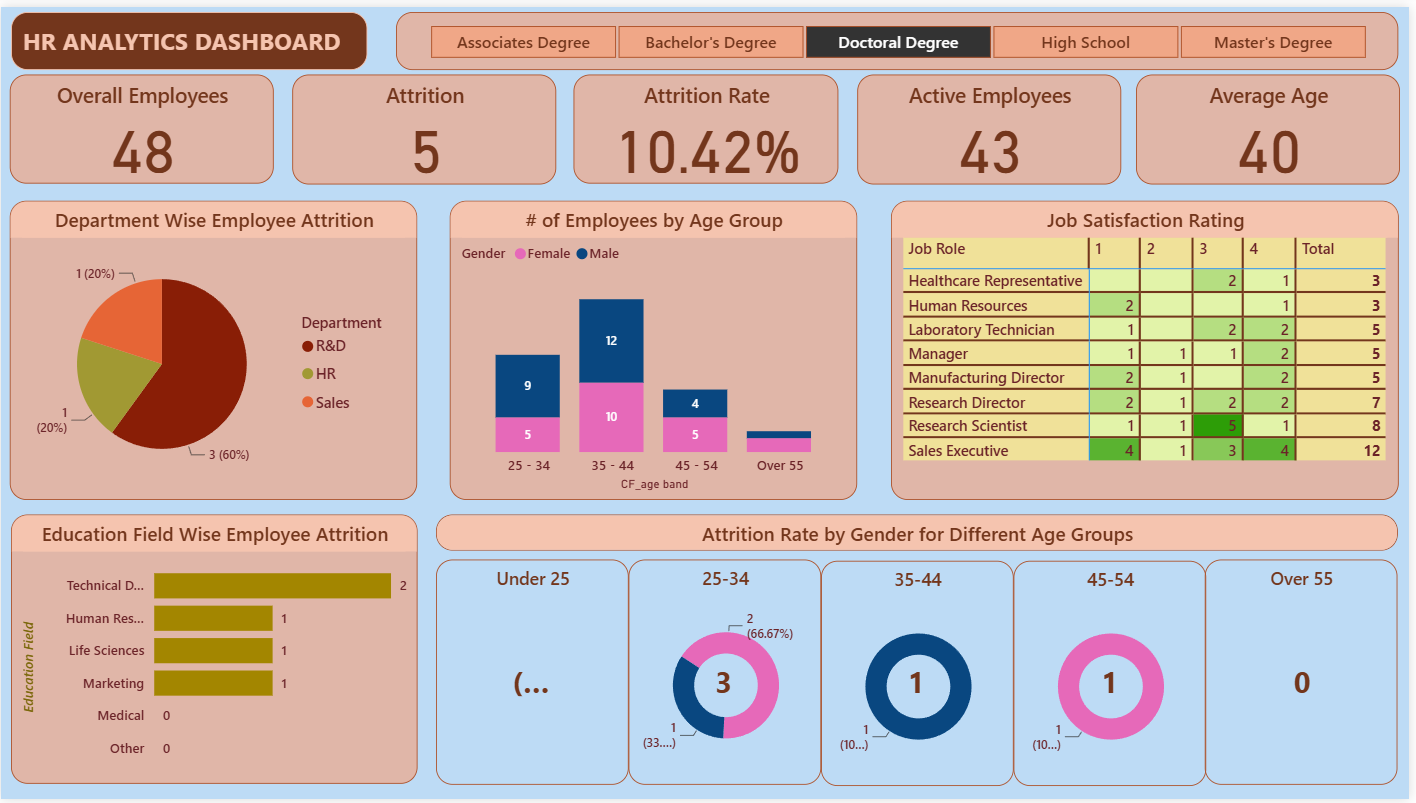

What the dashboard file says about the page in this screenshot:
{"tool":"powerbi","page":{"name":"HR Analytics Dashboard","canvas":[1280,720],"ordinal":0},"visuals":[{"type":"card","title":"Overall Employees","fields":{"Values":["Sum(HR data.Employee Count)"]},"box":[8.3,61.5,239.9,99.1],"z":0},{"type":"card","title":"Attrition ","fields":{"Values":["Sum(HR data.Attrition Count)"]},"box":[264.9,61.5,239.9,100.1],"z":1000},{"type":"card","title":"Attrition Rate","fields":{"Values":["HR data.Attrition Rate"]},"box":[520.4,61.5,240.9,99.1],"z":2000},{"type":"card","title":"Active Employees","fields":{"Values":["HR data.Active employees"]},"box":[778,61.5,239.9,100.1],"z":3000},{"type":"card","title":"Average Age","fields":{"Values":["Avg(HR data.Age)"]},"box":[1031.4,61.5,239.9,100.1],"z":4000},{"type":"pieChart","title":"Department Wise Employee Attrition","fields":{"Category":["HR data.Department"],"Y":["Sum(HR data.Attrition Count)"]},"box":[8.4,175.8,370.2,272.1],"z":5000},{"type":"columnChart","title":"# of Employees by Age Group","fields":{"Category":["HR data.CF_age band"],"Y":["Sum(HR data.Employee Count)"],"Series":["HR data.Gender"]},"box":[407.6,175.8,370.2,272.1],"z":6000},{"type":"pivotTable","title":"Job Satisfaction Rating","fields":{"Rows":["HR data.Job Role"],"Columns":["HR data.Job Satisfaction"],"Values":["Sum(HR data.Employee Count)"]},"box":[809.6,175.8,461.8,272.1],"z":7000},{"type":"barChart","title":"Education Field Wise Employee Attrition","fields":{"Category":["HR data.Education Field"],"Y":["Sum(HR data.Attrition Count)"]},"box":[9.3,461.8,369.3,244.9],"z":8000},{"type":"donutChart","title":"Under 25","fields":{"Category":["HR data.Gender"],"Y":["Sum(HR data.Attrition Count)"],"Series":["HR data.CF_age band"]},"box":[395.5,502,174.8,204.7],"z":9000},{"type":"textbox","title":"Attrition Rate by Gender for Different Age Groups","box":[395.5,461.8,874.1,32.7],"z":10000},{"type":"donutChart","title":"25-34","fields":{"Category":["HR data.Gender"],"Y":["Sum(HR data.Attrition Count)"],"Series":["HR data.CF_age band"]},"box":[570.3,502,174.8,204.7],"z":11000},{"type":"donutChart","title":"35-44","fields":{"Category":["HR data.Gender"],"Y":["Sum(HR data.Attrition Count)"],"Series":["HR data.CF_age band"]},"box":[745.1,503,174.8,204.7],"z":12000},{"type":"donutChart","title":"45-54","fields":{"Category":["HR data.Gender"],"Y":["Sum(HR data.Attrition Count)"],"Series":["HR data.CF_age band"]},"box":[919.9,503,174.8,204.7],"z":13000},{"type":"donutChart","title":"Over 55","fields":{"Category":["HR data.Gender"],"Y":["Sum(HR data.Attrition Count)"],"Series":["HR data.CF_age band"]},"box":[1094.8,502,174.8,204.7],"z":14000},{"type":"card","fields":{"Values":["Sum(HR data.Attrition Count)"]},"box":[459,597.4,45.8,33.7],"z":15000},{"type":"card","fields":{"Values":["Sum(HR data.Attrition Count)"]},"box":[628.8,597.5,57.4,33.4],"z":16000},{"type":"card","fields":{"Values":["Sum(HR data.Attrition Count)"]},"box":[806.1,597.5,53.2,33.4],"z":17000},{"type":"card","fields":{"Values":["Sum(HR data.Attrition Count)"]},"box":[985.4,597.4,45.8,33.7],"z":18000},{"type":"card","fields":{"Values":["Sum(HR data.Attrition Count)"]},"box":[1160.2,597.4,45.8,33.7],"z":19000},{"type":"textbox","box":[9.4,4.2,324.3,53.2],"z":20000},{"type":"slicer","fields":{"Values":["HR data.Education"]},"box":[358.7,4.2,911.4,53],"z":21000}]}

Visuals, with their boxes in screenshot pixels (x1, y1, x2, y2), scaled from the page's 1280x720 canvas onto the 1416x803 screenshot:
"Overall Employees" card: bbox=[9, 69, 275, 179]
"Attrition " card: bbox=[293, 69, 558, 180]
"Attrition Rate" card: bbox=[576, 69, 842, 179]
"Active Employees" card: bbox=[861, 69, 1126, 180]
"Average Age" card: bbox=[1141, 69, 1406, 180]
"Department Wise Employee Attrition" pieChart: bbox=[9, 196, 419, 500]
"# of Employees by Age Group" columnChart: bbox=[451, 196, 860, 500]
"Job Satisfaction Rating" pivotTable: bbox=[896, 196, 1406, 500]
"Education Field Wise Employee Attrition" barChart: bbox=[10, 515, 419, 788]
"Under 25" donutChart: bbox=[438, 560, 631, 788]
"Attrition Rate by Gender for Different Age Groups" textbox: bbox=[438, 515, 1404, 552]
"25-34" donutChart: bbox=[631, 560, 824, 788]
"35-44" donutChart: bbox=[824, 561, 1018, 789]
"45-54" donutChart: bbox=[1018, 561, 1211, 789]
"Over 55" donutChart: bbox=[1211, 560, 1404, 788]
card - Sum(HR data.Attrition Count): bbox=[508, 666, 558, 704]
card - Sum(HR data.Attrition Count): bbox=[696, 666, 759, 704]
card - Sum(HR data.Attrition Count): bbox=[892, 666, 951, 704]
card - Sum(HR data.Attrition Count): bbox=[1090, 666, 1141, 704]
card - Sum(HR data.Attrition Count): bbox=[1283, 666, 1334, 704]
textbox: bbox=[10, 5, 369, 64]
slicer - HR data.Education: bbox=[397, 5, 1405, 64]
